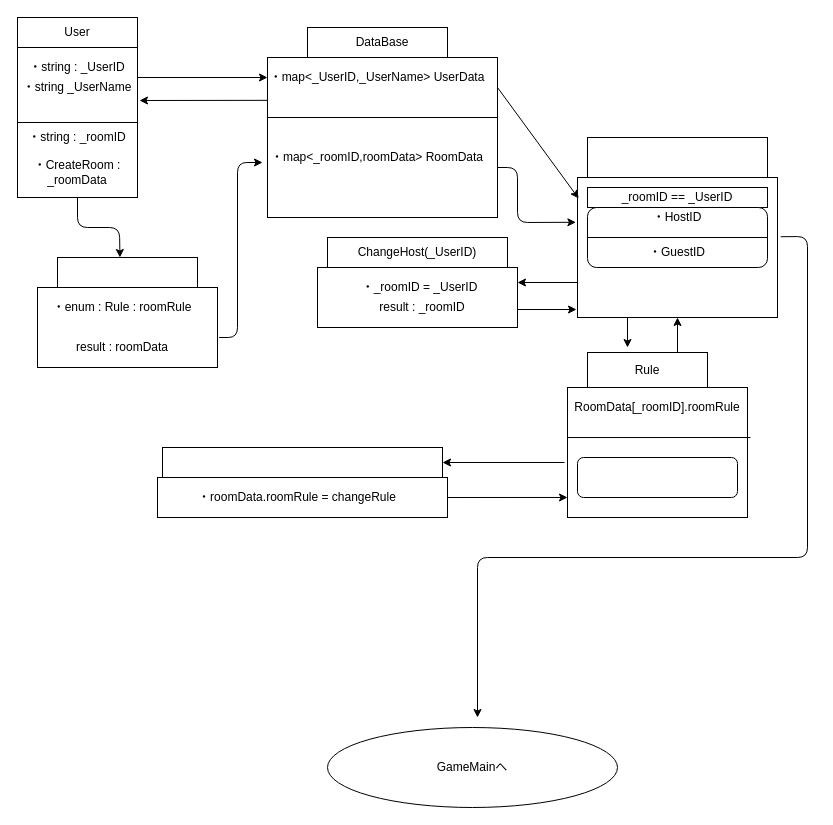
This 833x825 diagram has some shape labels left out. Here are the shapes that lost their labels. From the top down, the centre of each, then its label:
the point at 677,157: Room
the point at 127,272: CreateRoom(_roomID)
the point at 302,462: ChangeRule(&roomData,Rule : changeRule)
the point at 657,477: HostID
